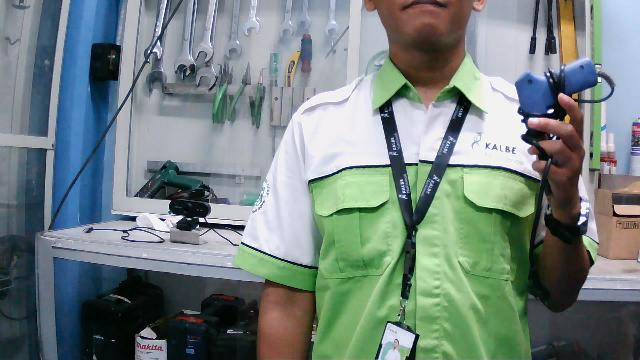solder_electrical: (511, 54, 617, 198)
